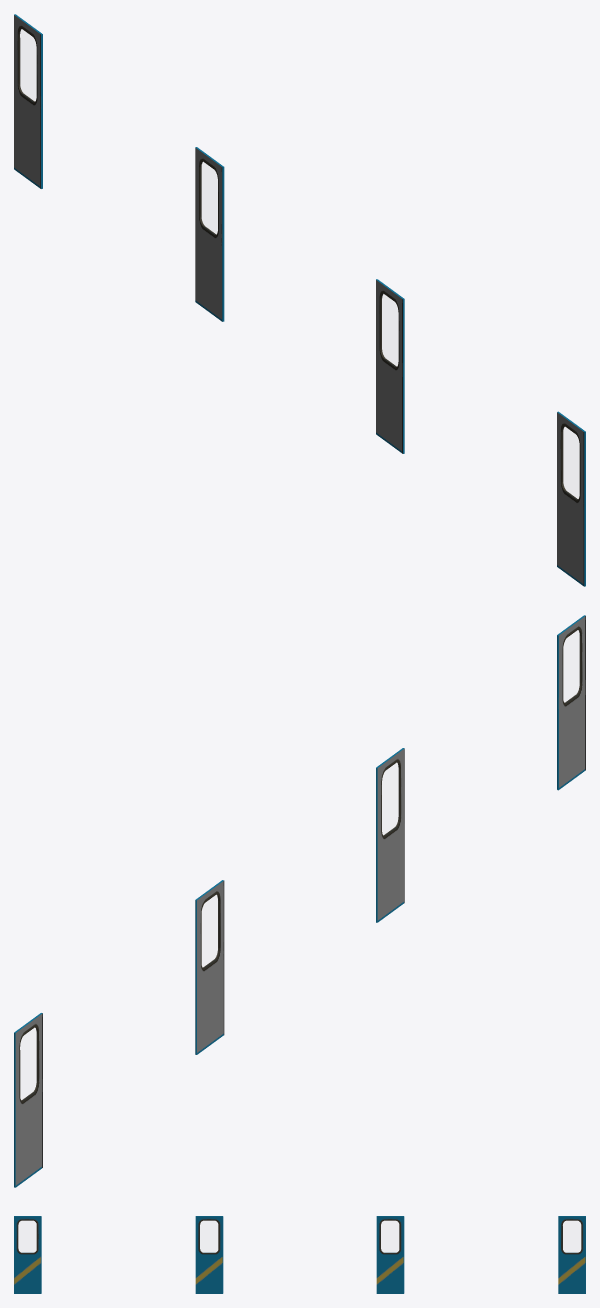
The model's file is SubwayTrain01_DoorL2.FBX.
3 views of the same model, one above another, from view 1: azimuth 30°, elevation 25°; view 2: azimuth 150°, elevation 25°; view 3: azimuth 270°, elevation 25° (orthographic). The views are drawn at different scales.
Parts seen in each view (by area): view 1: SubwayTrain01_DoorL2; view 2: SubwayTrain01_DoorL2; view 3: SubwayTrain01_DoorL2.
Boxes of the visible parts, x1,y1,x2,y2 form: SubwayTrain01_DoorL2: (14,14,585,586); SubwayTrain01_DoorL2: (14,615,585,1187); SubwayTrain01_DoorL2: (14,1216,585,1293).
Bounding box in the file's own units: 31.81 × 2619 × 17517.
